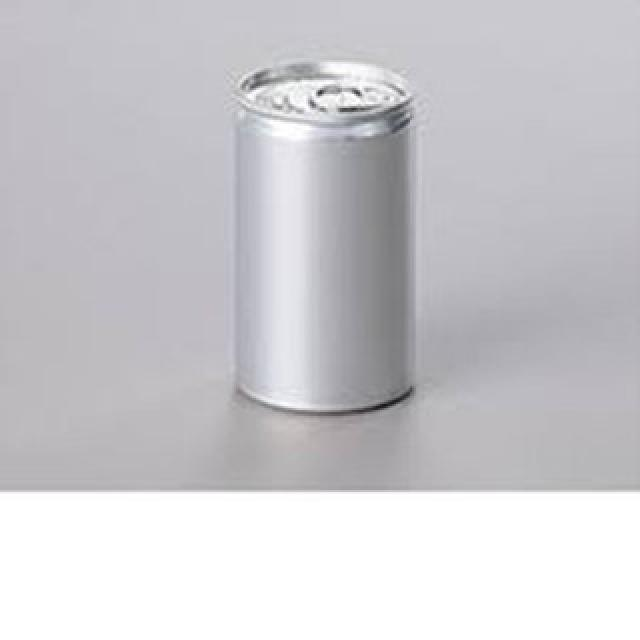can: (223, 58, 420, 421)
